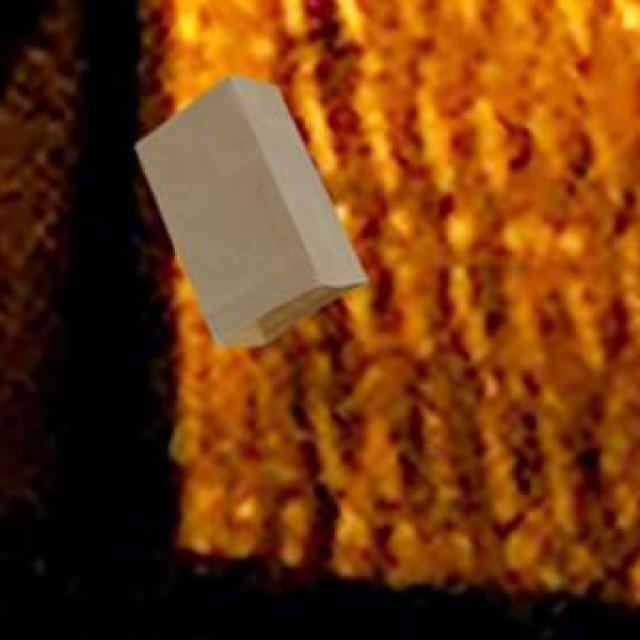paper: (132, 73, 363, 341)
